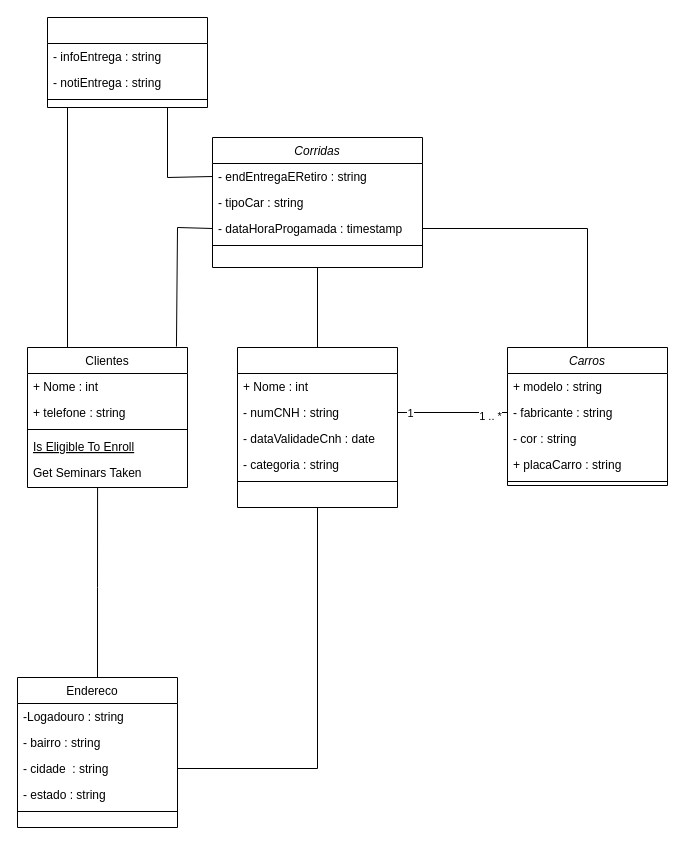
Image size: 685x845. Some labels were removed from this diagram. Here are the shapes that lost their labels. From the top down, the box of each, then its label:
(46, 16, 208, 108): EntregasManézinho
(236, 346, 398, 508): cooperados
